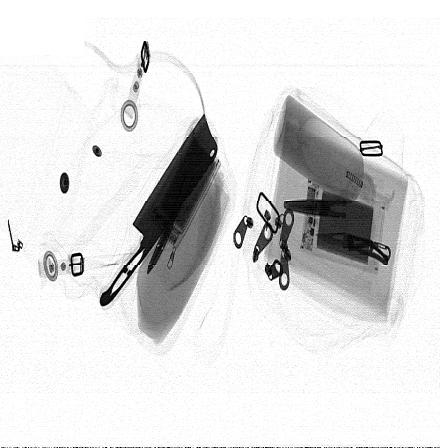Knife: (99, 112, 219, 310), (314, 231, 393, 266)
Powerbank: (147, 125, 223, 253), (300, 173, 387, 271)
Scissors: (145, 117, 218, 274), (283, 173, 377, 245)
